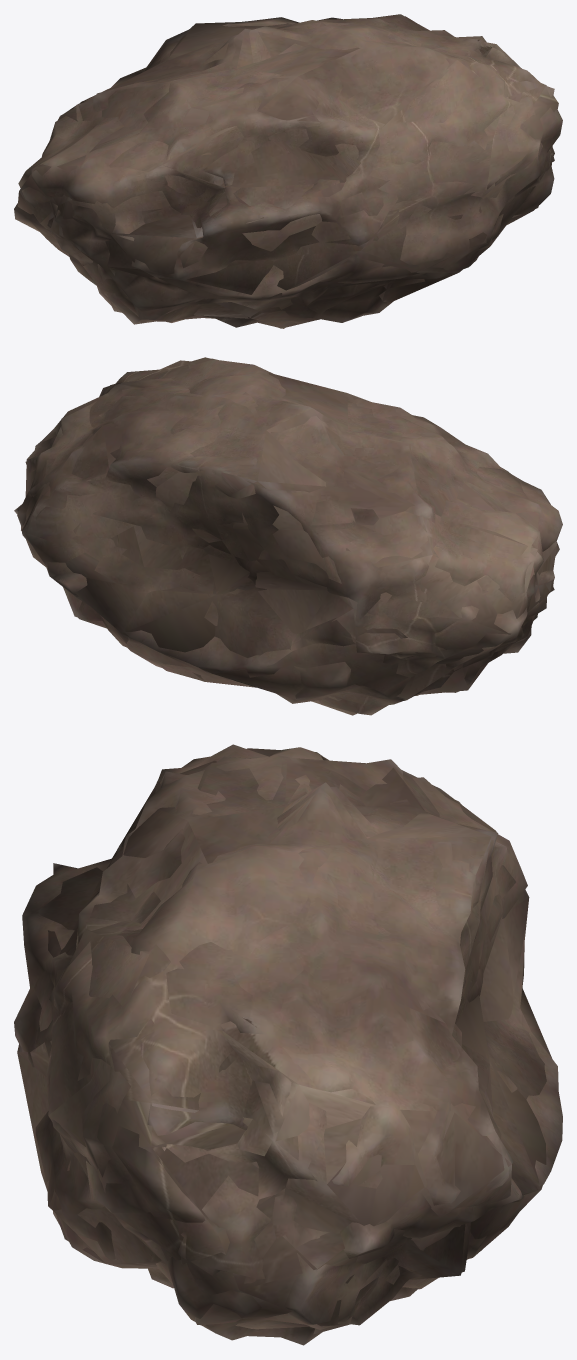
Rendered from asteroid_b.glb.
3 renders of one model, top to bottom at view 1: azimuth 30°, elevation 25°; view 2: azimuth 150°, elevation 25°; view 3: azimuth 270°, elevation 25°, orthographic. The views are drawn at different scales.
Visible parts, largest first — view 1: Asteroid_B, Asteroid_B_LOD; view 2: Asteroid_B, Asteroid_B_LOD; view 3: Asteroid_B, Asteroid_B_LOD.
Part boxes in pixels (x1,y1,x2,y2): Asteroid_B: [14, 14, 562, 328]; Asteroid_B_LOD: [17, 16, 558, 323]; Asteroid_B: [14, 358, 562, 715]; Asteroid_B_LOD: [21, 357, 556, 715]; Asteroid_B: [14, 744, 562, 1345]; Asteroid_B_LOD: [17, 748, 551, 1334].
Bounding box in the file's own units: 1.93 × 1.03 × 1.14.
1 material, 1 textured.
